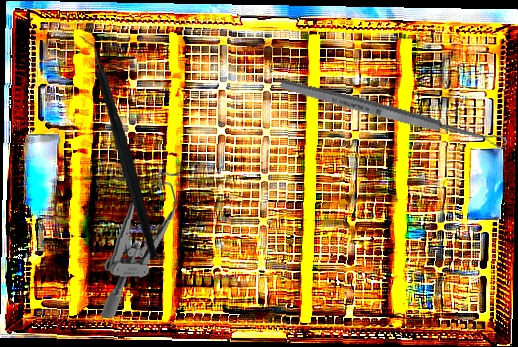Chopper: (60, 35, 175, 260)
Speculum: (100, 154, 181, 322)
Surgical Spoon: (278, 76, 509, 152)
